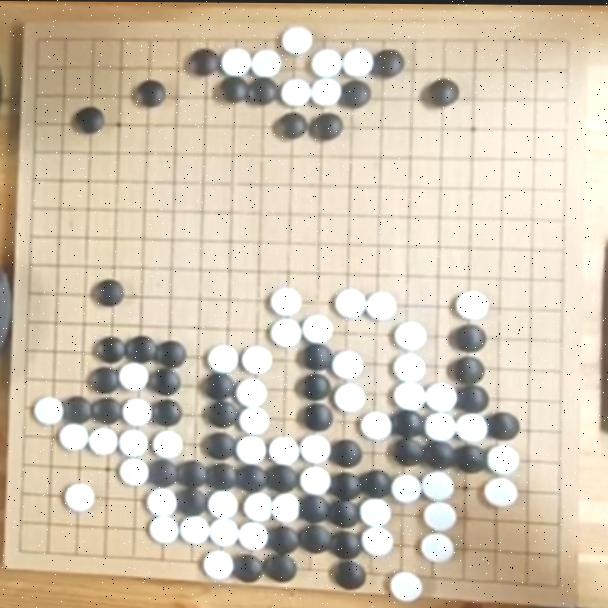corners: (543, 19, 586, 67), (532, 565, 576, 601), (26, 22, 64, 61), (6, 533, 46, 564)
